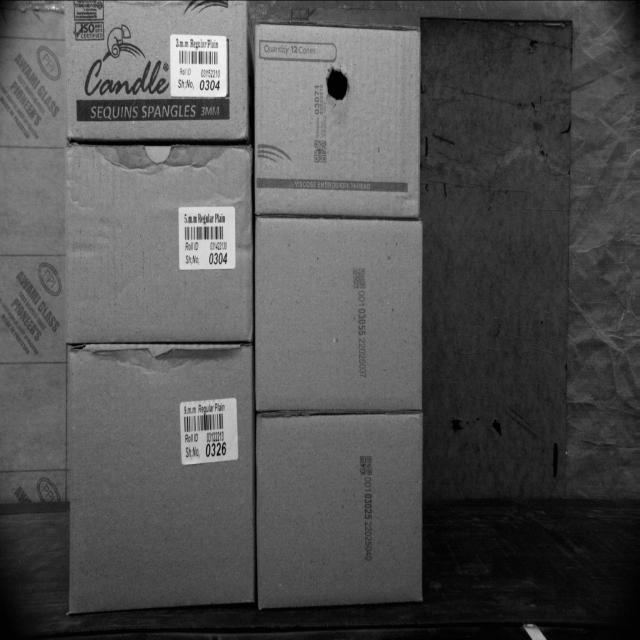cardboxes: (67, 348, 255, 610), (64, 144, 252, 344), (252, 25, 426, 218), (256, 414, 426, 610), (255, 220, 426, 411), (64, 0, 250, 138)
